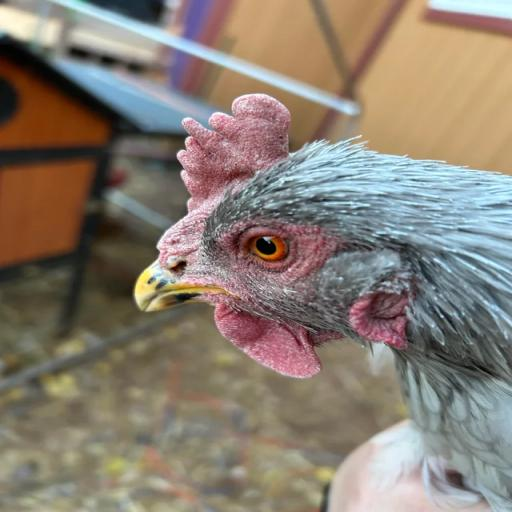healthy: (181, 177, 384, 337)
